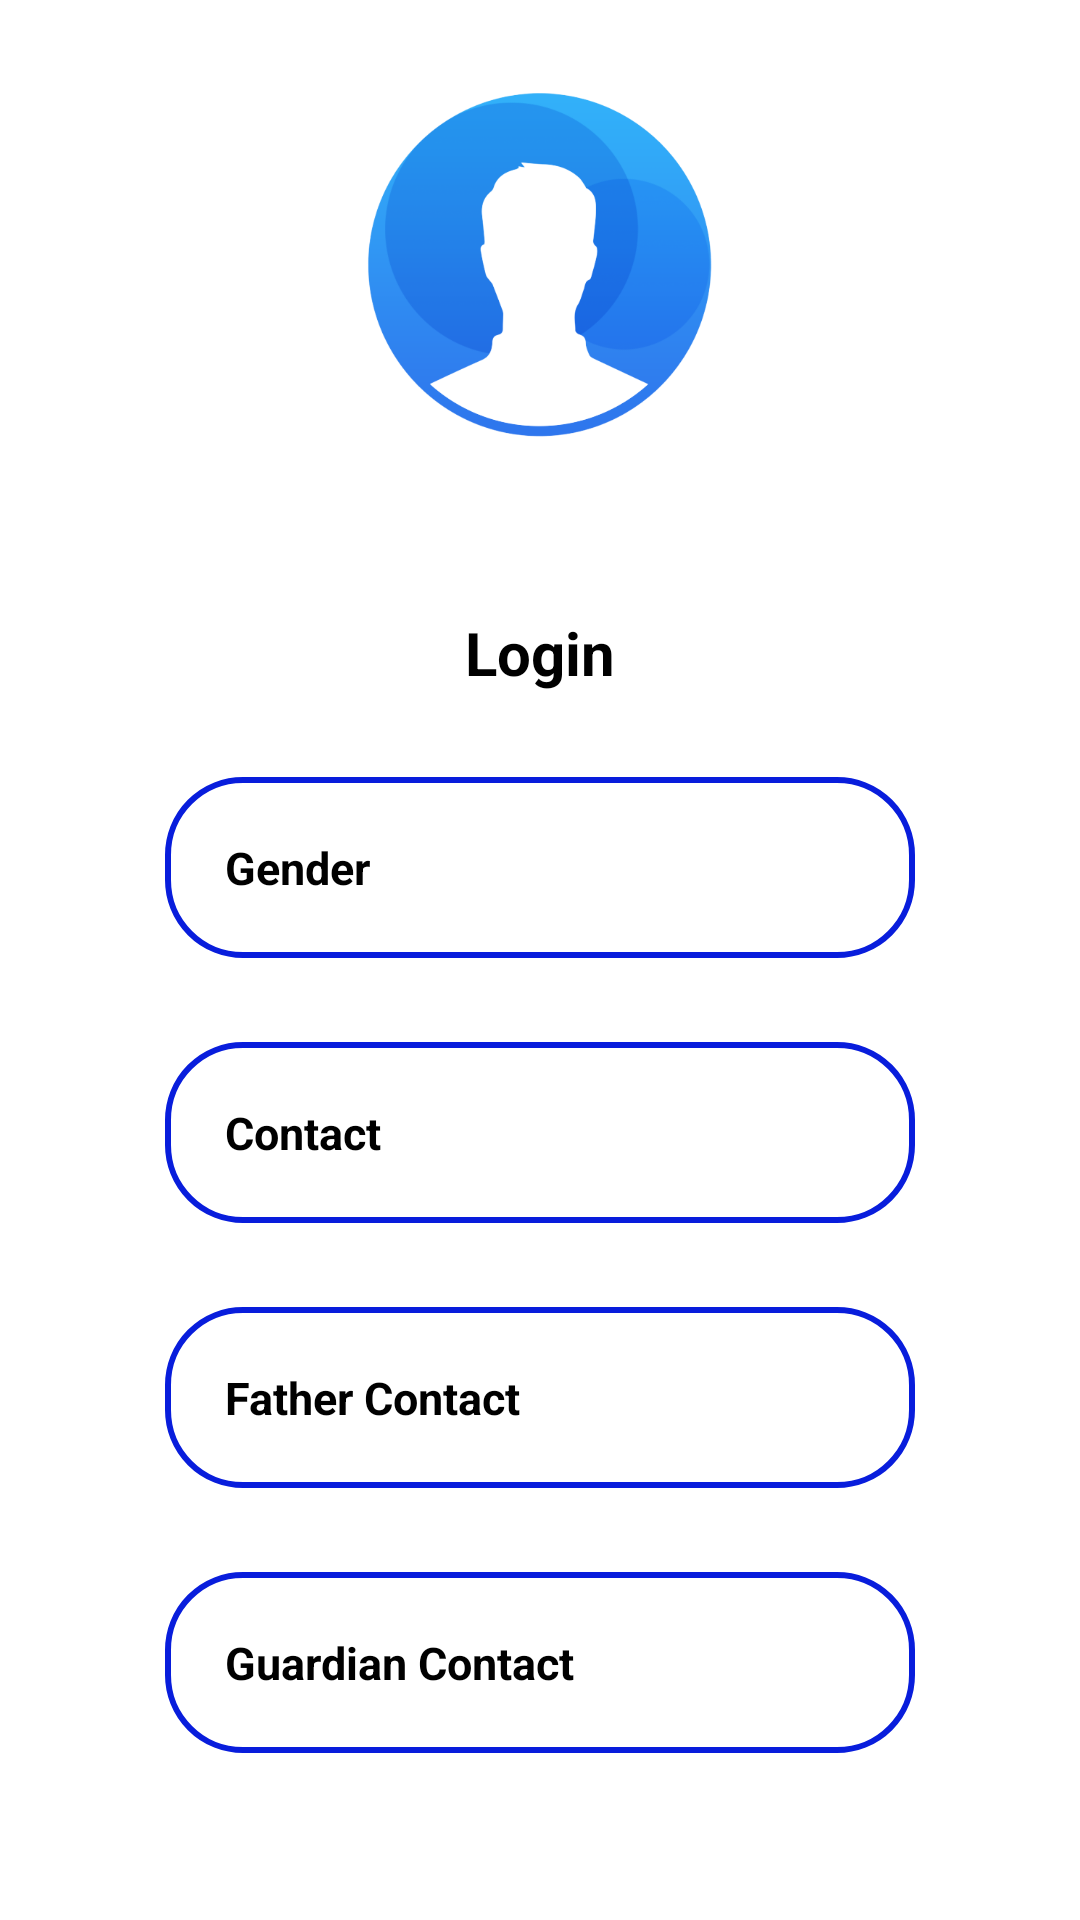

Where to tap for icons on this 1080w x 1920h app screen, as point (x, y):
This is a Profile icon: point (540, 265)
